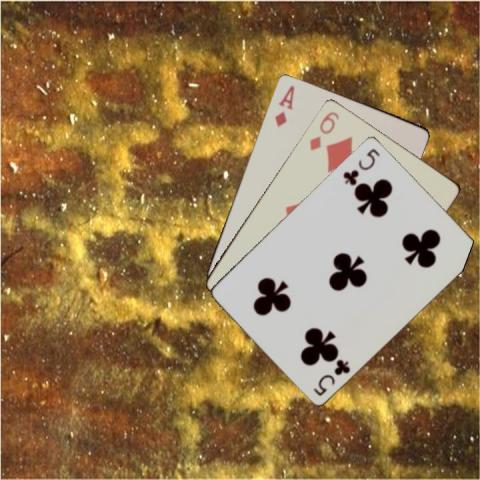5c: (310, 356, 352, 397), (340, 145, 381, 186)
6d: (306, 108, 341, 152)
Ad: (271, 82, 296, 129)
